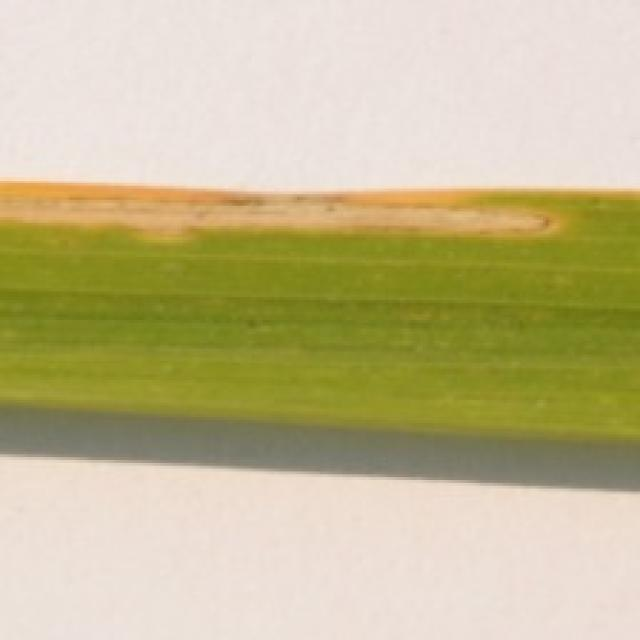Rice___Bacterial_Leaf_Blight: (0, 177, 637, 449)
